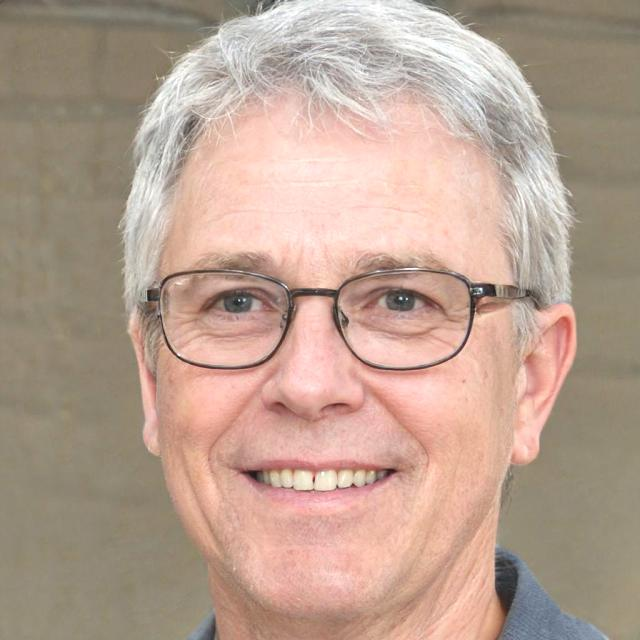lens: (337, 268, 473, 369), (161, 271, 291, 369)
